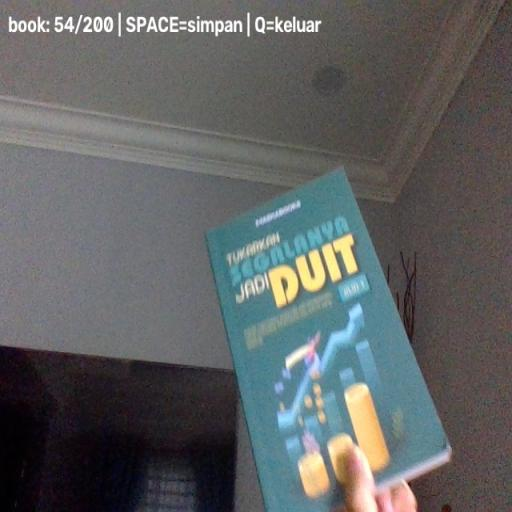Book: (206, 166, 452, 512)
